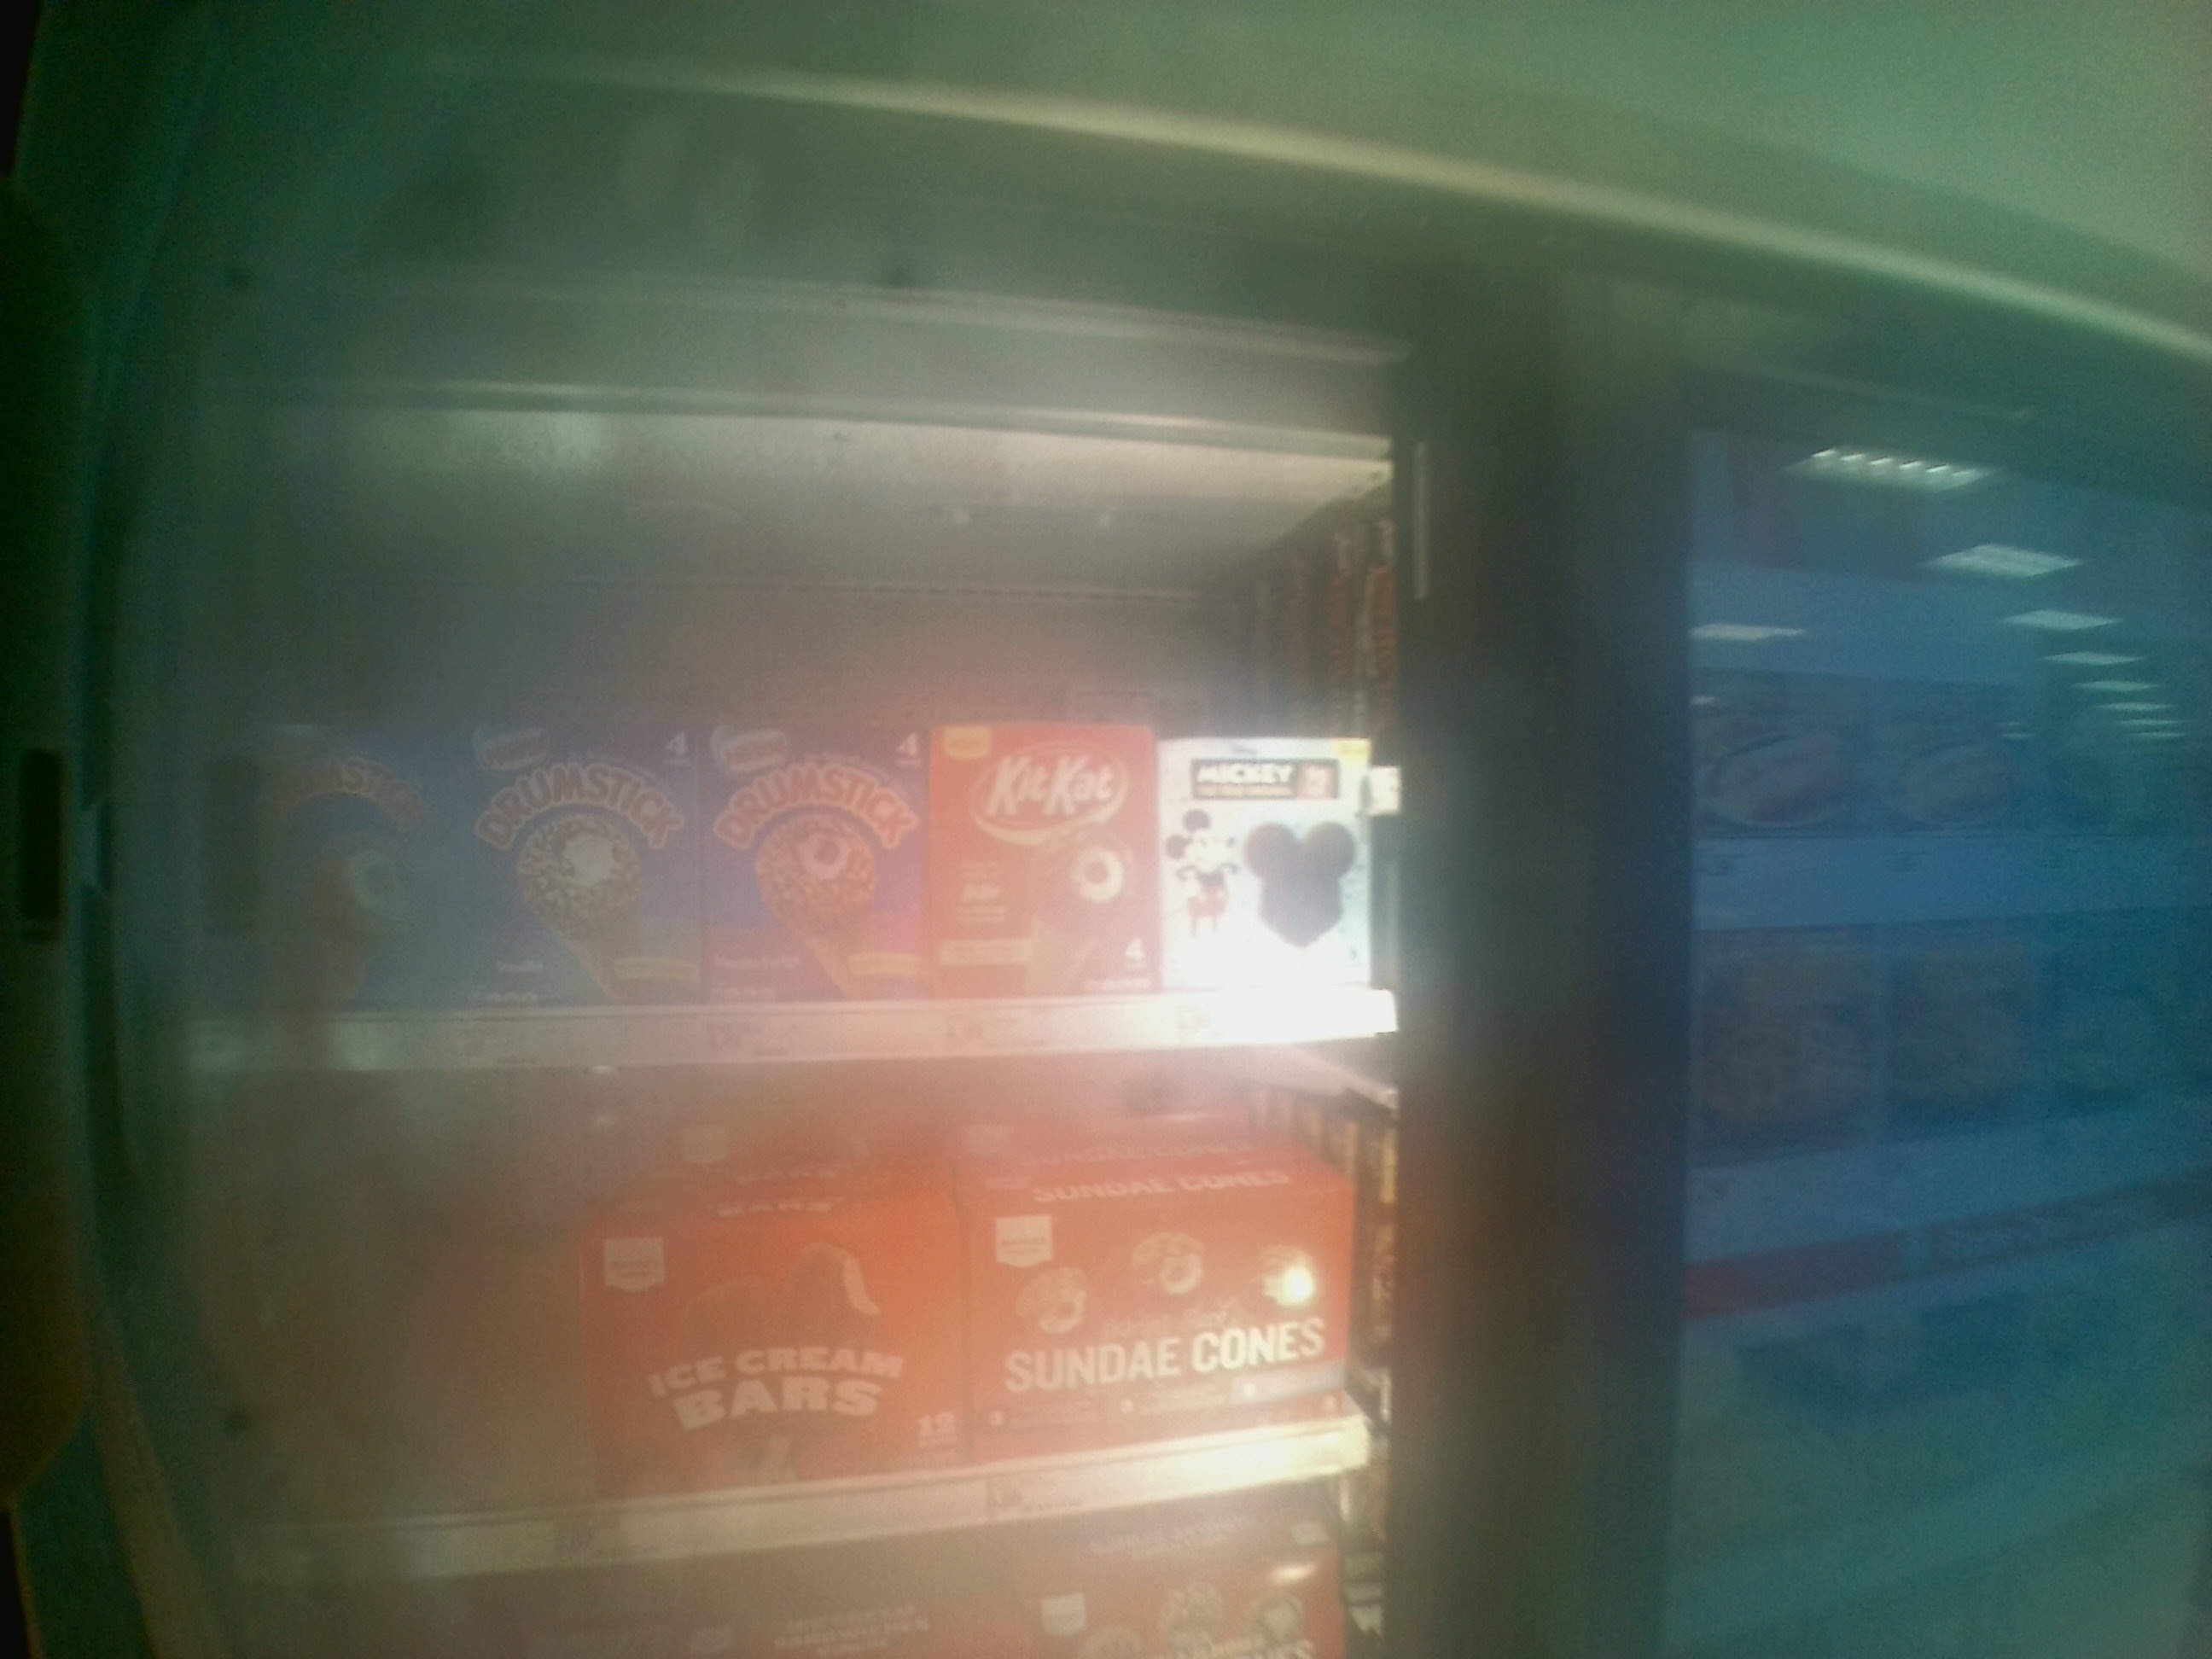frozen-food-shelf: (153, 533, 1423, 1087)
